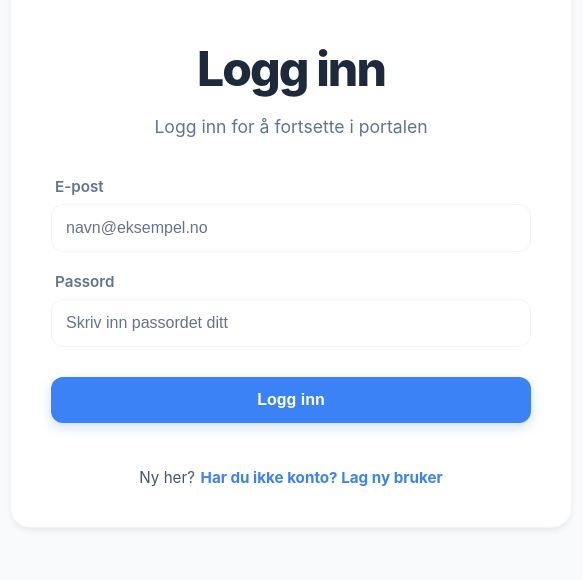
Scenario: LogIn Component › viser feilmelding hvis innlogging feiler
Step 1. Type "feil@bruker.no" into the field labelled "E-post" → (291, 228), box x1=51 y1=204 x2=531 y2=252
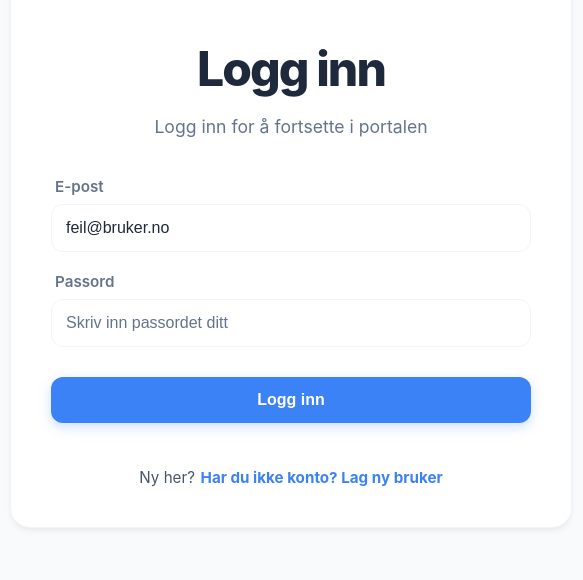
Step 2. Type "feilpassord" into the password field labelled "Passord" → (291, 323), box x1=51 y1=299 x2=531 y2=347
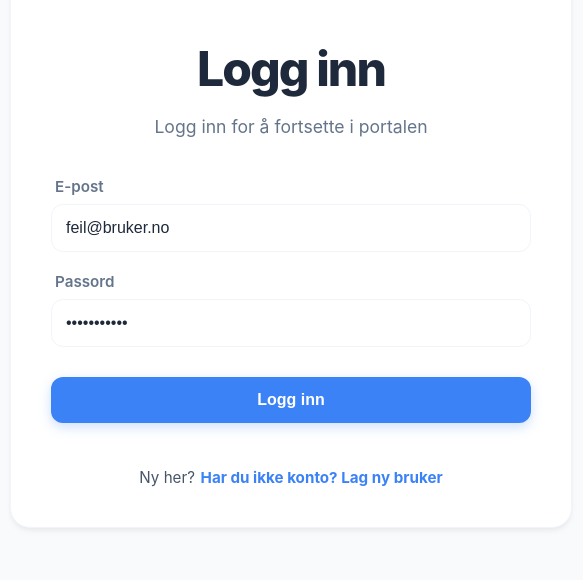
Step 3. Click the button "Logg inn" → (291, 400), box x1=51 y1=377 x2=531 y2=423
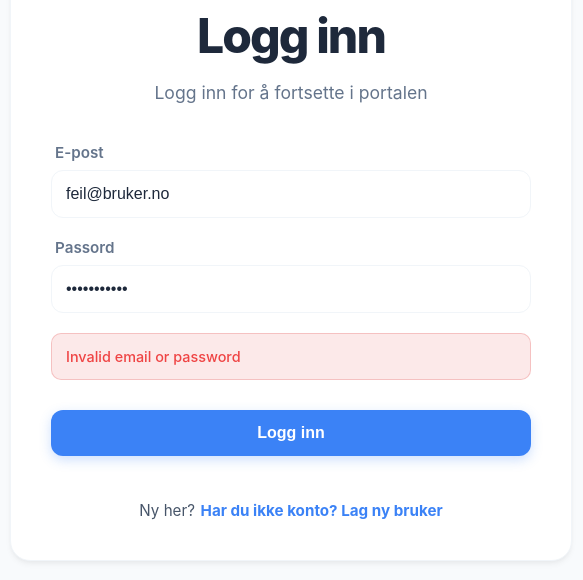
Expected: the text "Invalid email or password" is shown, x1=51 y1=333 x2=531 y2=380
